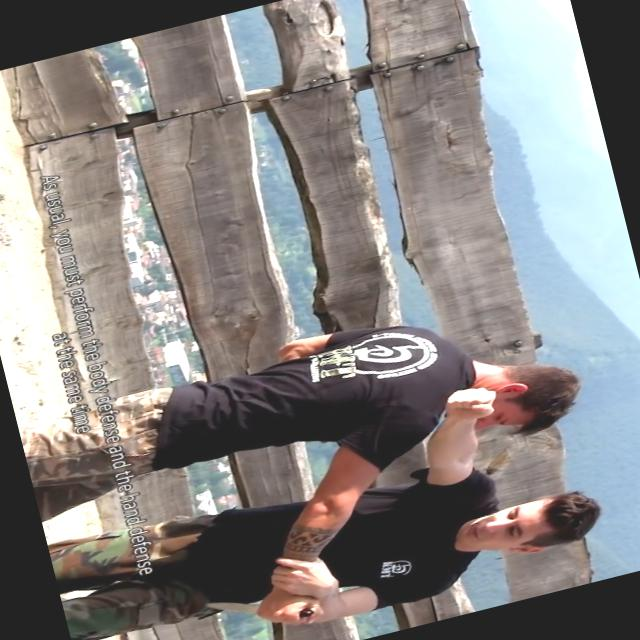knife: (199, 572, 328, 639)
